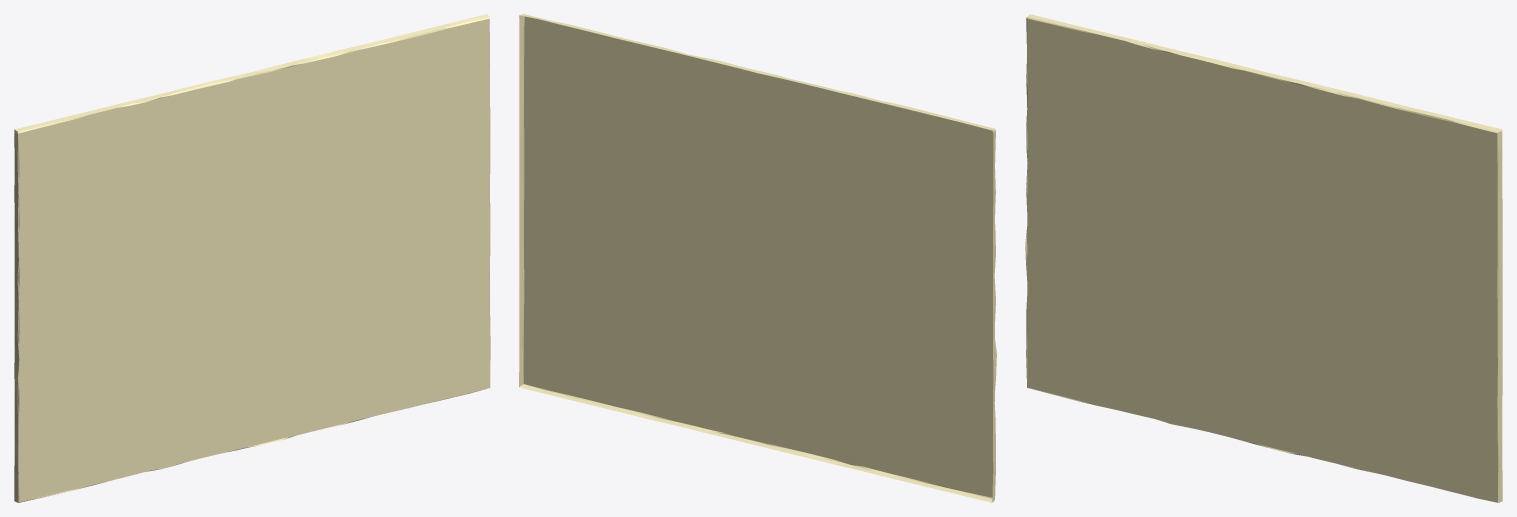
3 renders of one model, left to right at view 1: azimuth 30°, elevation 25°; view 2: azimuth 150°, elevation 25°; view 3: azimuth 330°, elevation 25°, orthographic.
Parts seen in each view (by area): view 1: Cube; view 2: Cube; view 3: Cube.
Part boxes in pixels (x1=…): Cube: x1=14, y1=14, x2=490, y2=502; Cube: x1=519, y1=14, x2=996, y2=502; Cube: x1=1025, y1=14, x2=1502, y2=502.
Size of the model in its own units: 2.01 by 1.51 by 0.0354.
